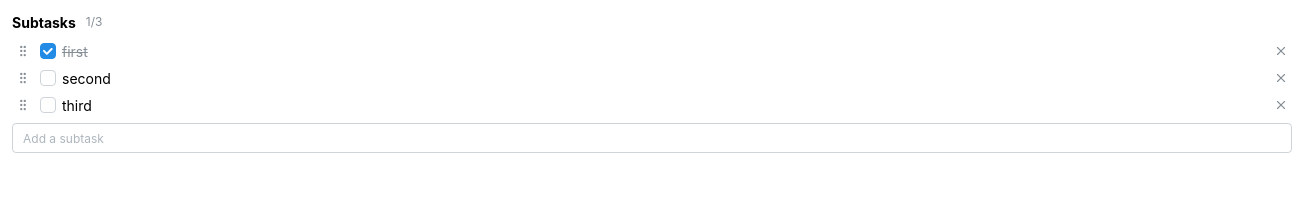
Test: SubtasksSection › a failed add does not overwrite what was typed since
The width and height of the screenshot is (1304, 206).
Type "fourth" into the field named "New subtask" at [652, 138], box [12, 123, 1292, 153]
Then press Enter
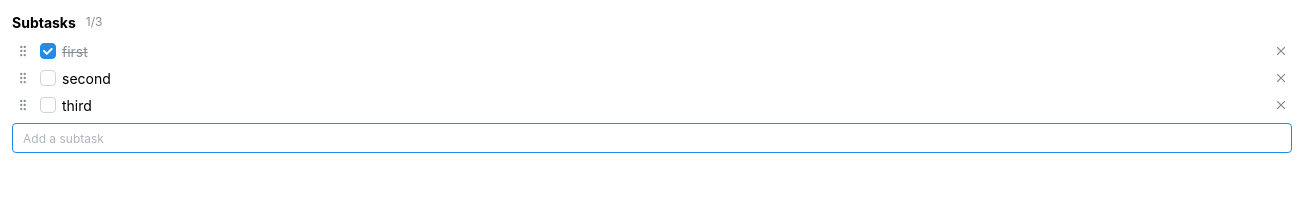
Type "fifth" into the field named "New subtask" at [652, 138], box [12, 123, 1292, 153]
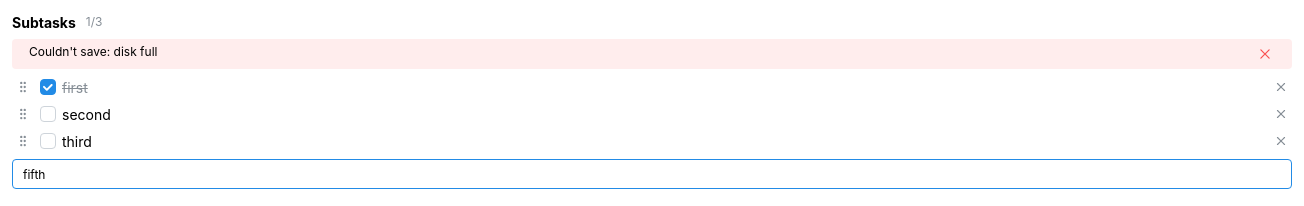
Result: the text "Couldn't save: disk full" is shown at [29, 44, 158, 59]
